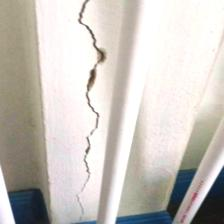High: (63, 1, 110, 224)
